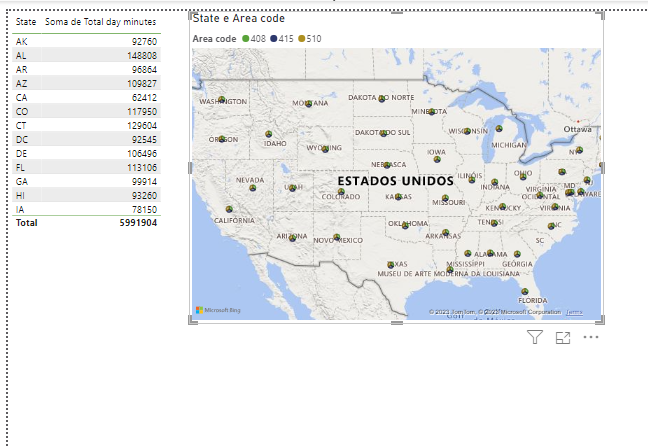

The dashboard page shown, as its layout file describes it:
{"tool":"powerbi","page":{"name":"Página 1","canvas":[1280,720],"ordinal":0},"visuals":[{"type":"textbox","box":[0,432,300,288],"z":2},{"type":"tableEx","fields":{"Values":["telecom_churn.State","Sum(telecom_churn.Total day minutes)"]},"box":[0,0,313.3,315.6],"z":3},{"type":"map","fields":{"Category":["telecom_churn.State"],"Series":["telecom_churn.Area code"]},"box":[258.6,0,592.9,447.1],"z":4}]}

Visuals, with their boxes in screenshot pixels (x1, y1, x2, y2):
textbox: detection(3, 215, 148, 353)
tableEx - telecom_churn.State x Sum(telecom_churn.Total day minutes): detection(3, 7, 154, 159)
map - telecom_churn.State x telecom_churn.Area code: detection(128, 7, 413, 222)
